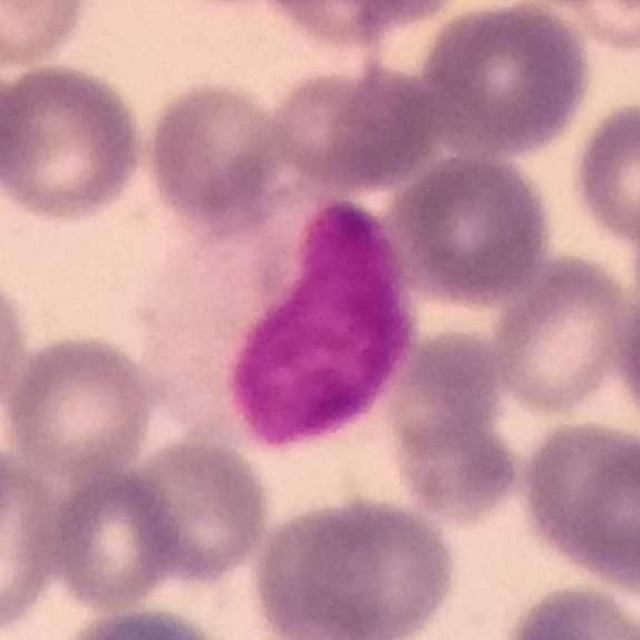mono: (132, 171, 422, 450)
